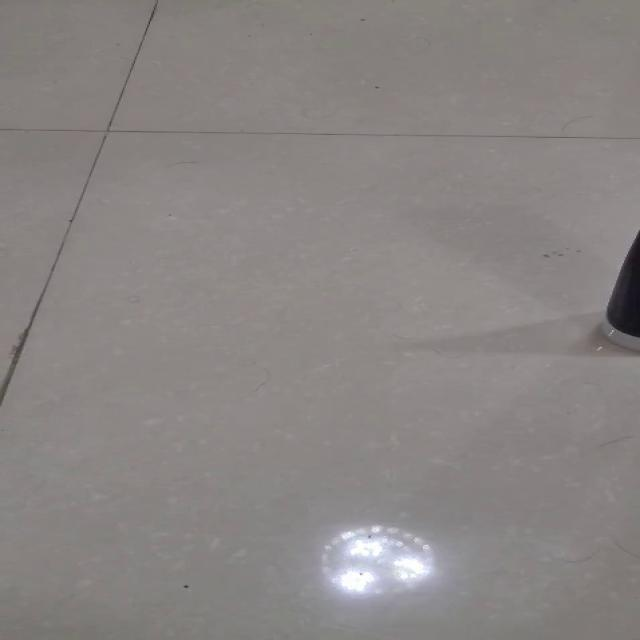plastic: (317, 523, 435, 598)
